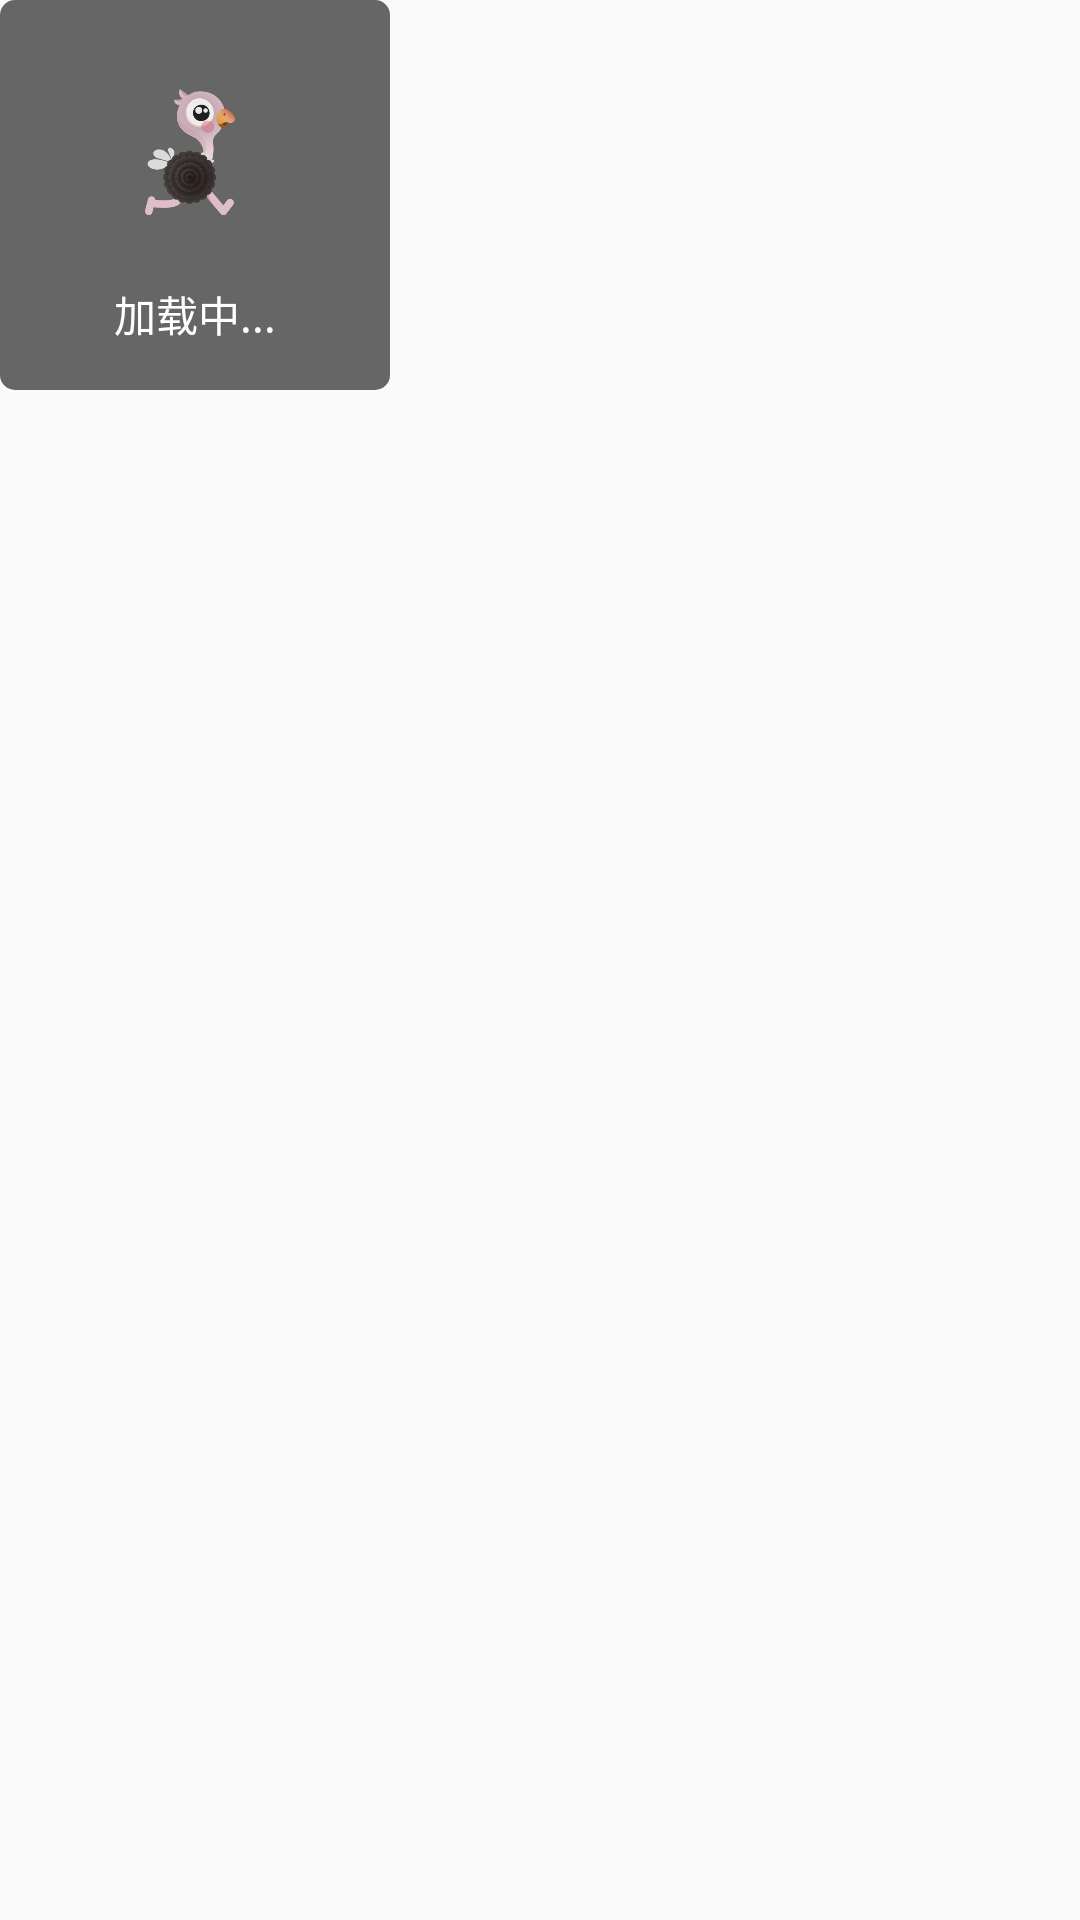

Screen size 1080x1920. Icon name, then its center in pixels as (x=x, y=y):
loading: (x=190, y=152)
